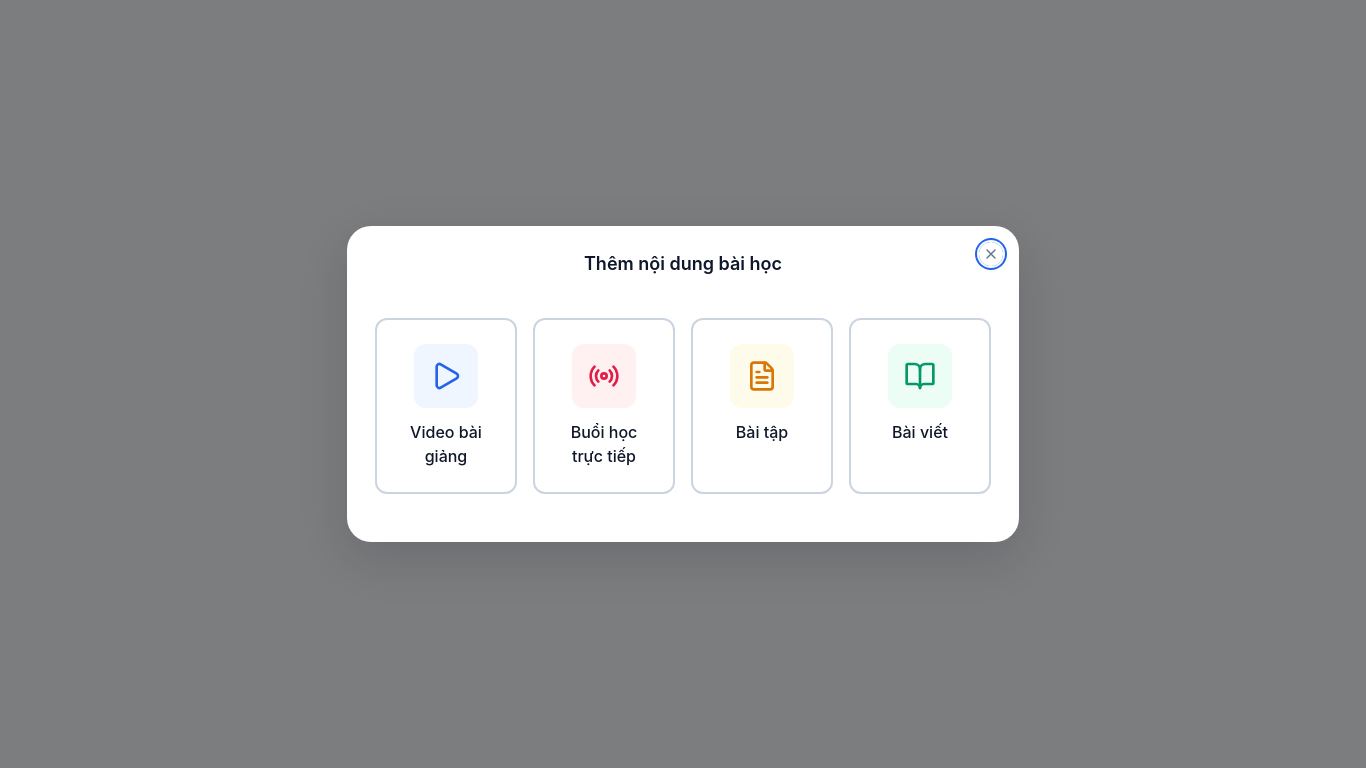
Test: AddContentModal — chọn lớp cho buổi học trực tiếp (finding #1) › không còn thu các field backend không nhận (duration / platform / enableReminder)
Click the button "Buổi học trực tiếp" at (604, 406), box [533,318,675,494]
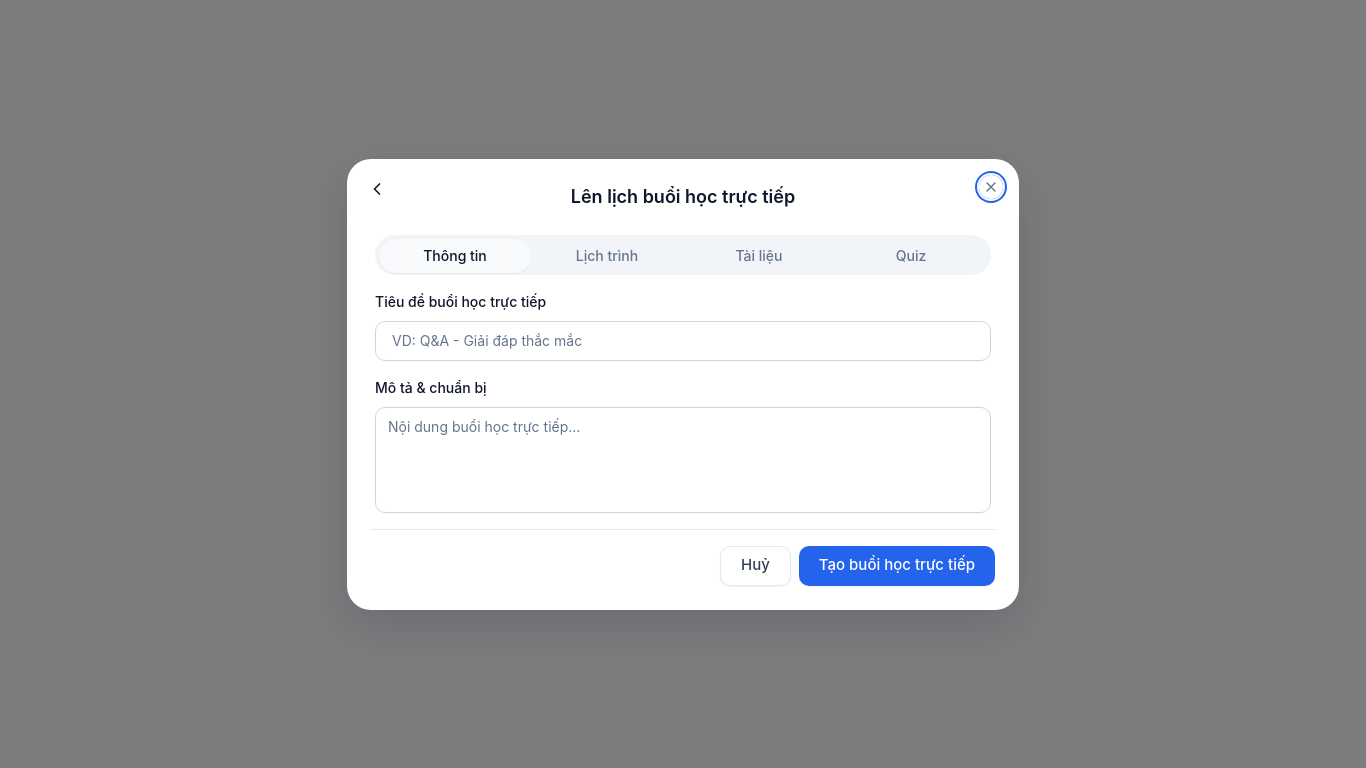
Type "Buổi Q&A" into the field labelled "Tiêu đề buổi học trực tiếp" at (683, 340), box [375,320,991,360]
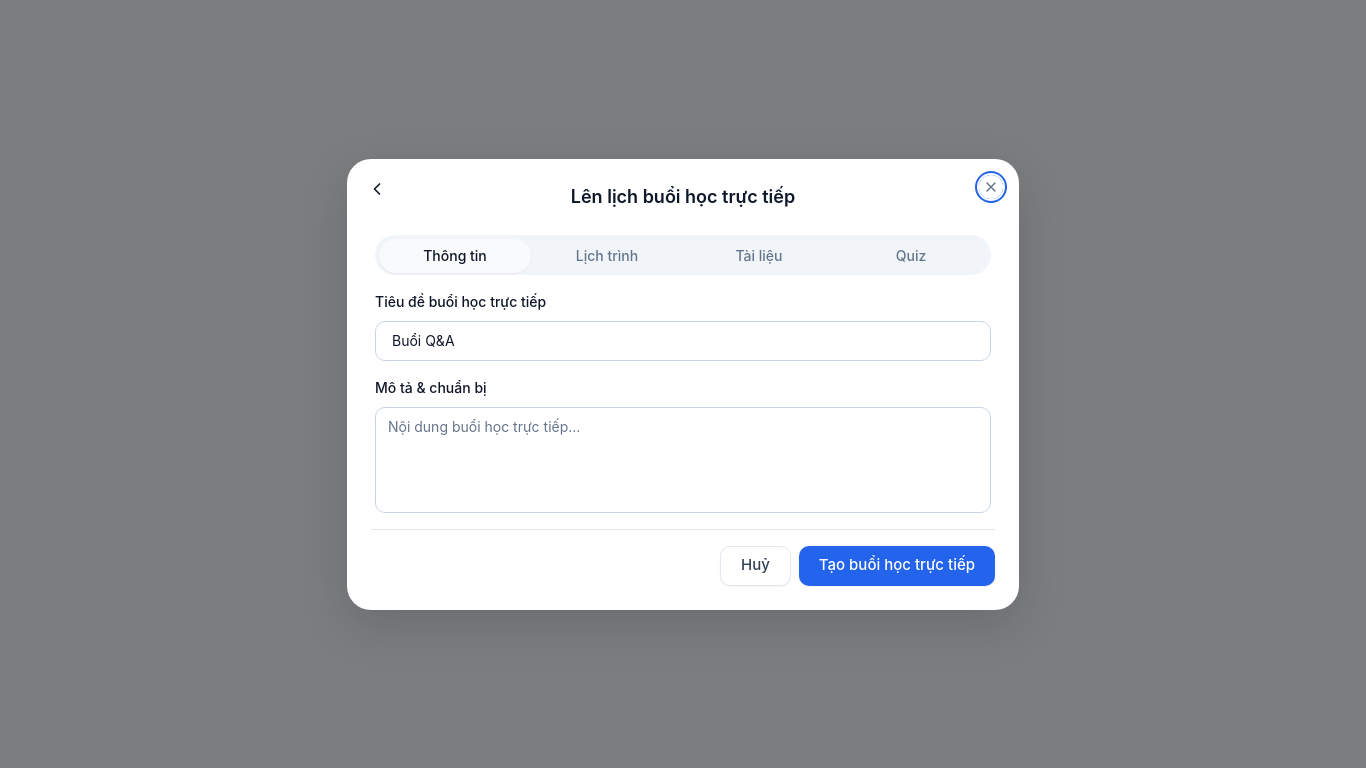
Click the tab "Lịch trình" at (607, 256), box [531,238,683,272]
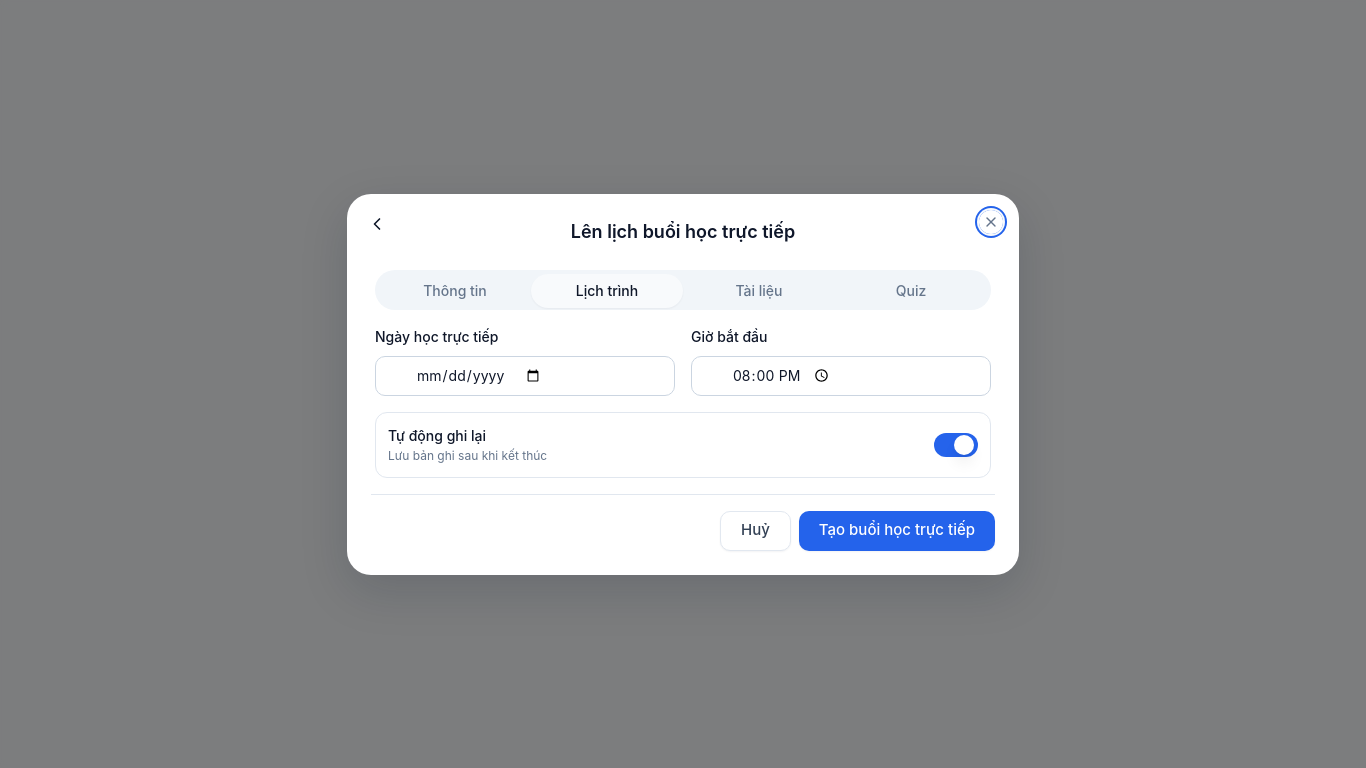
Expected: the text "Tự động ghi lại" is shown, [388,426,486,444]
